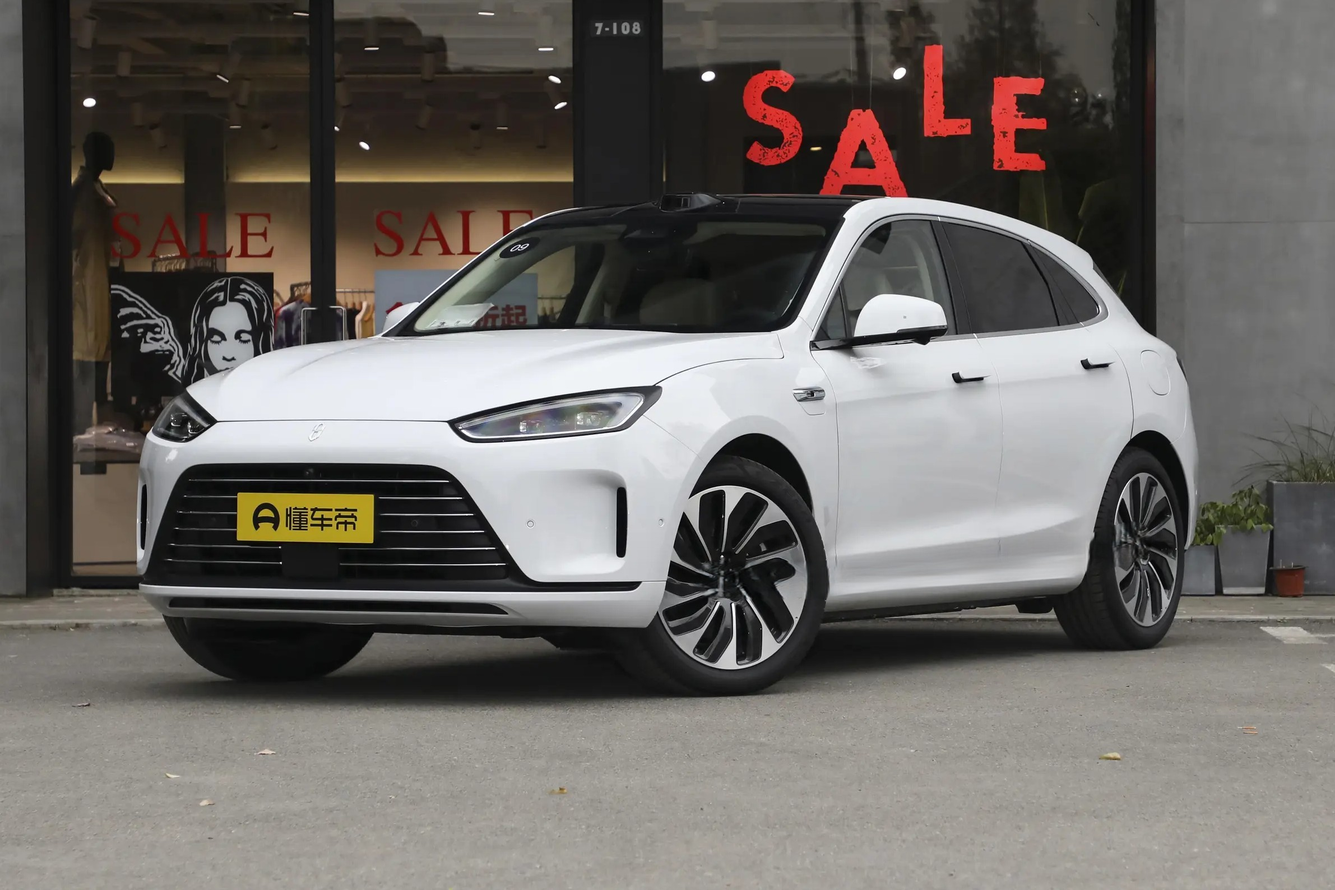AITO: (309, 422, 325, 441)
